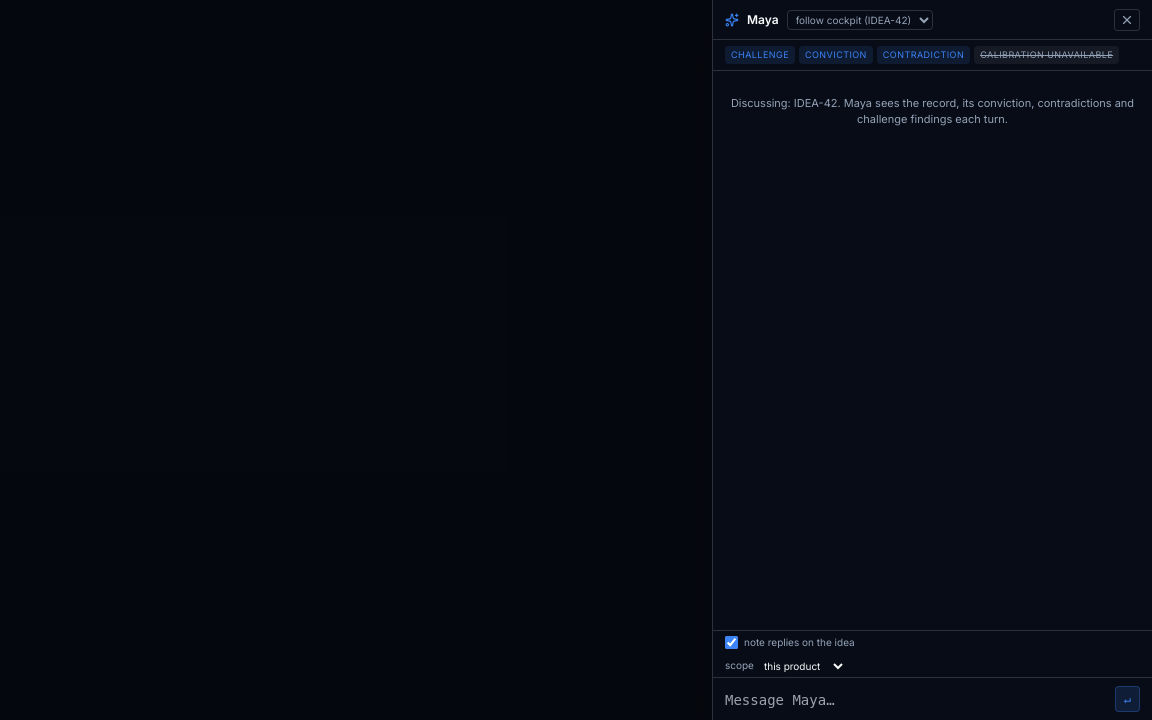
Test: conversation flow › final without the owed write-back event ends UNKNOWN — unconfirmed chip, idempotent retry
Type "stream this" into the text box with placeholder "Message Maya…" at [916, 701], box [725,689,1107,712]
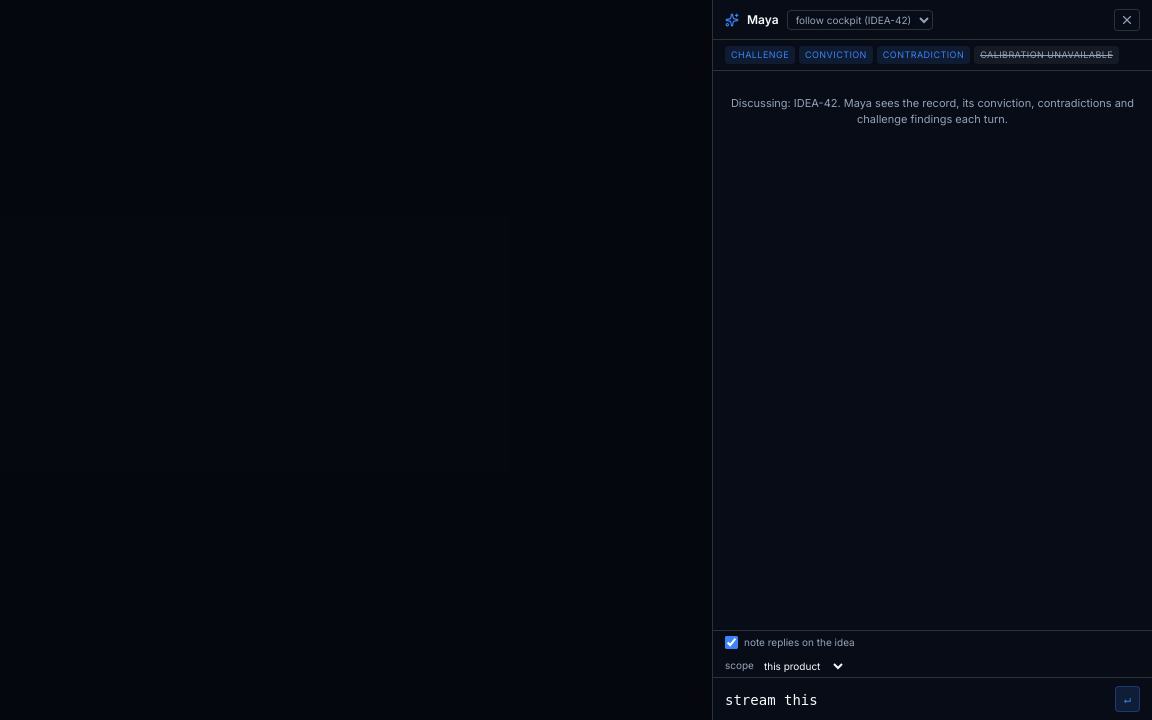
Press Enter in the text box, box [725,689,1107,712]
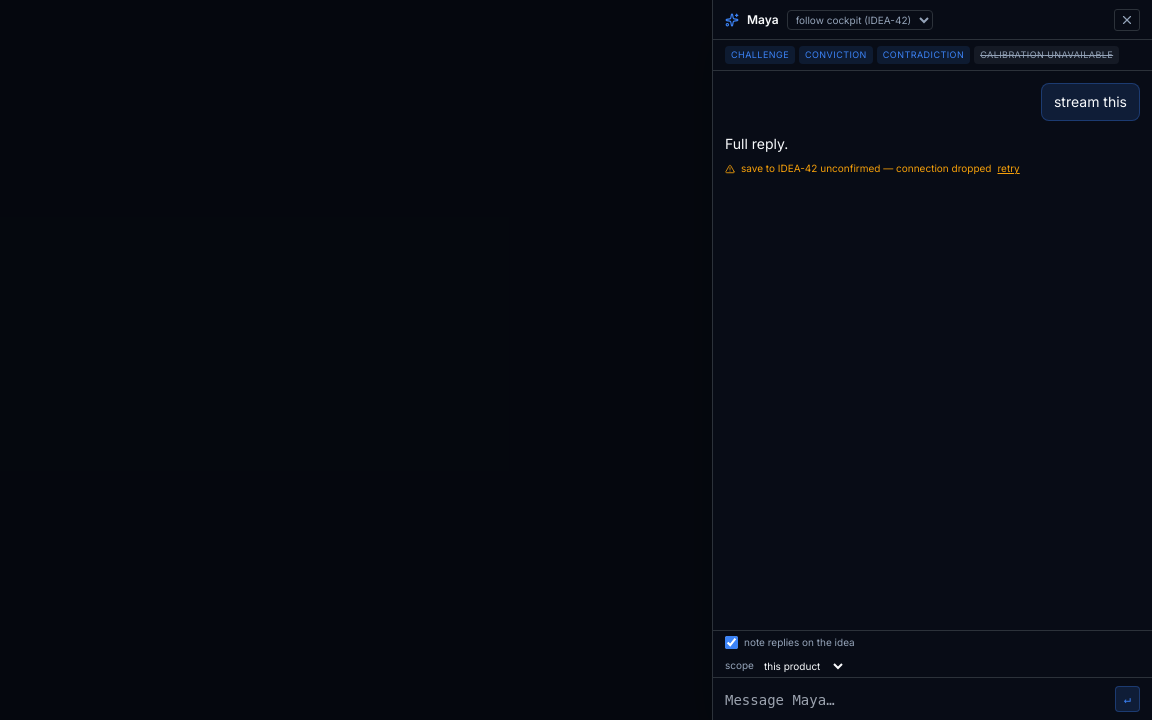
Expected: the text "noted on" is not shown
Expected: the text "save to IDEA-42 unconfirmed — connection dropped retry" is shown, [725,161,1020,176]
Expected: the text "Full reply." is shown, [725,134,788,152]
Click the button "retry" at [1009, 169], box [998,161,1020,176]
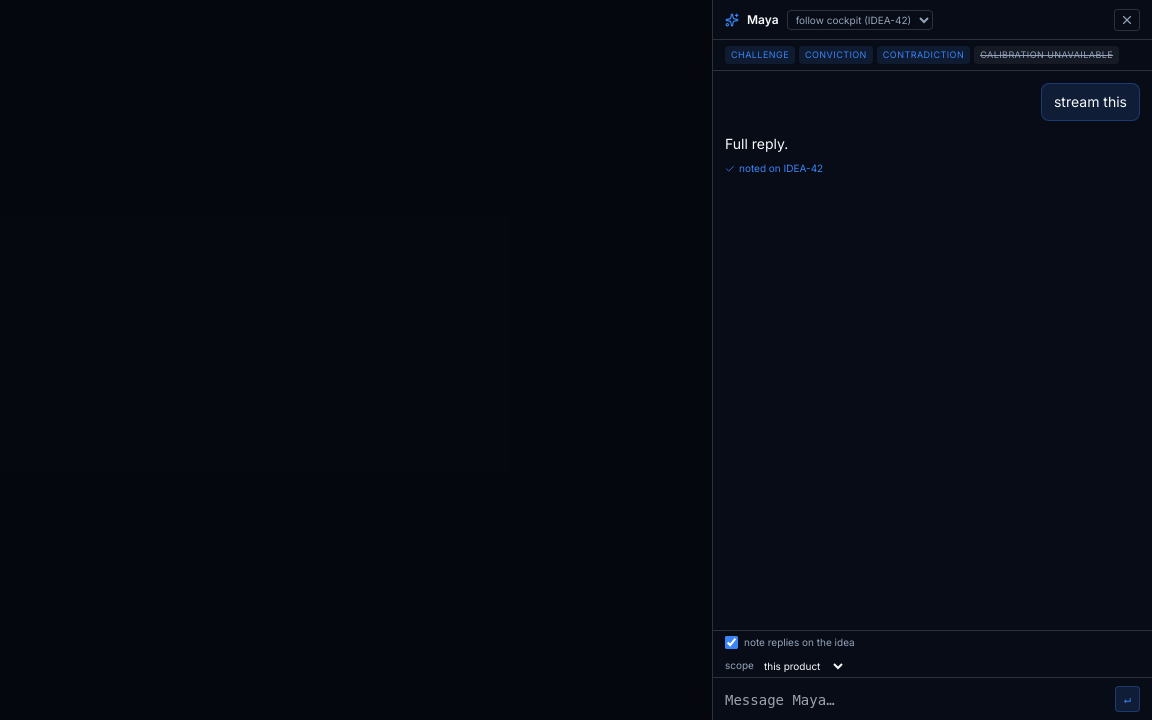
Expected: the text "noted on IDEA-42" is shown, [725,162,823,174]
